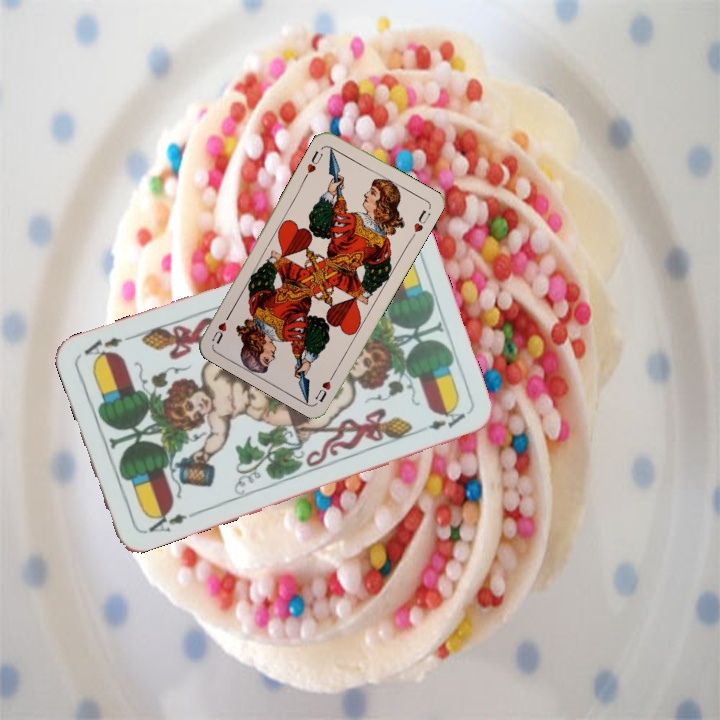EA: (140, 505, 197, 536)
HU: (311, 367, 339, 404), (301, 146, 325, 180)
